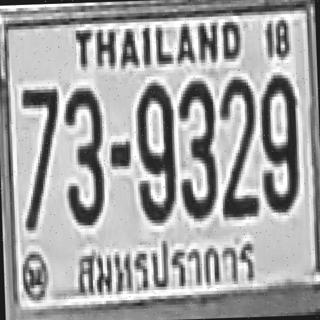N02: (217, 76, 258, 217)
N03: (63, 84, 103, 223), (176, 79, 216, 217)
N07: (21, 86, 61, 228), (20, 86, 60, 212), (20, 86, 60, 182)
N09: (134, 79, 175, 220), (258, 71, 299, 210)
P57: (65, 225, 264, 308)
